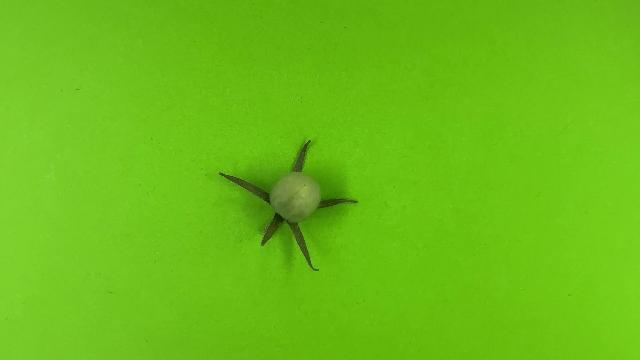Fruit Maturation: (268, 172, 322, 223)
